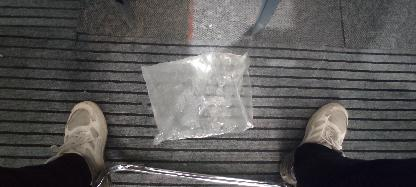Others: (141, 53, 253, 145)
